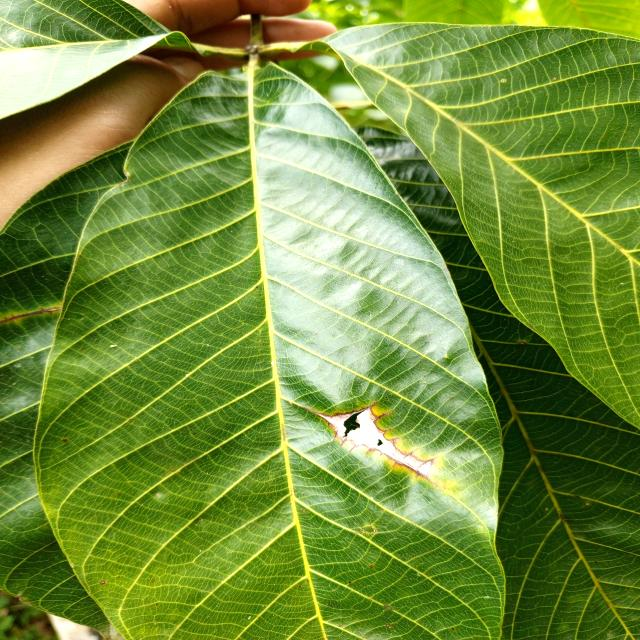Colletotrichum: (100, 580, 106, 584), (385, 624, 391, 627), (348, 582, 351, 584)
Corynespora: (314, 403, 434, 479), (0, 306, 63, 324)
